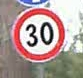limite 30: (9, 7, 65, 62)
